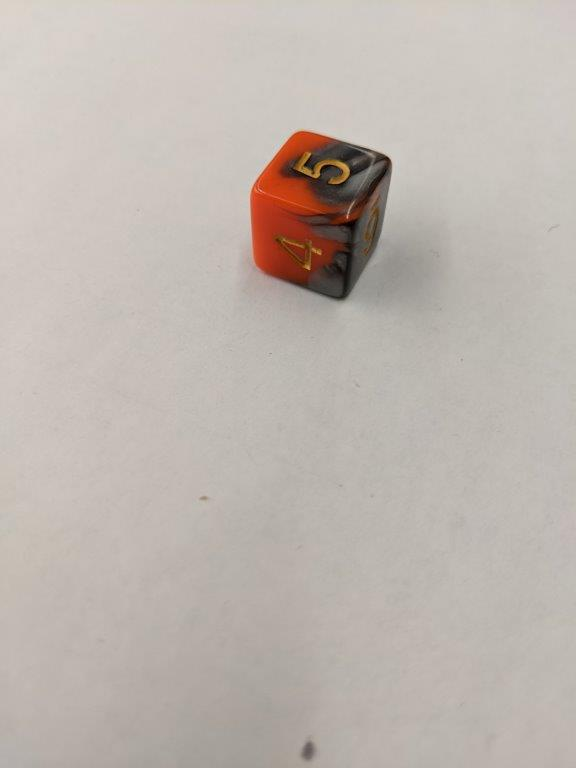d6-5: (250, 131, 392, 302)
